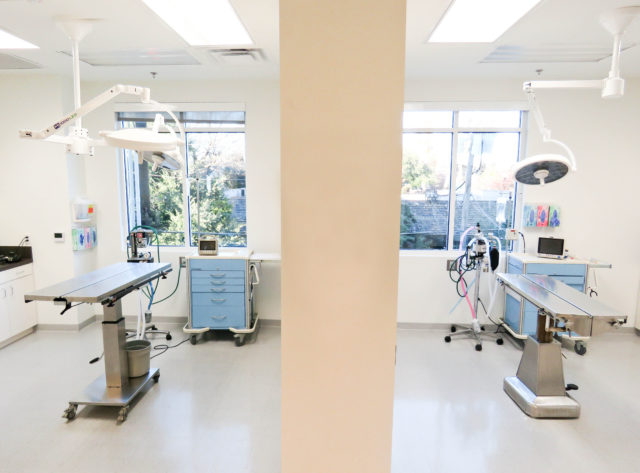bedside_monitor: (537, 237, 565, 260), (198, 238, 219, 256)
handle: (1, 286, 14, 298), (212, 315, 226, 319), (211, 298, 226, 301), (211, 275, 224, 278), (213, 287, 226, 290), (211, 281, 227, 283)
iv_pole: (496, 173, 514, 323), (185, 174, 198, 260)
medical_drawer: (506, 252, 591, 353), (187, 248, 262, 345)
medical_waste_container: (71, 200, 97, 222)
operating_bed: (23, 260, 170, 424), (494, 272, 629, 421)
surgical_light: (103, 127, 178, 159), (511, 153, 578, 185), (136, 147, 186, 174)
